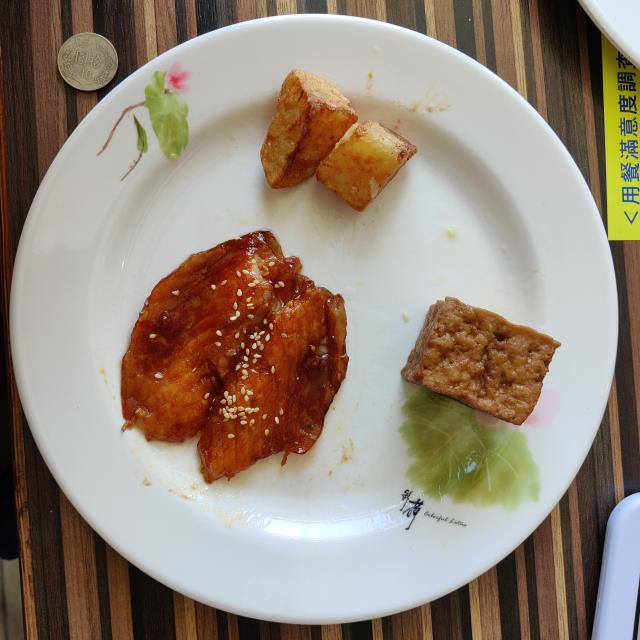Kabayaki sea bream fillet: (121, 231, 348, 482)
coin: (58, 32, 118, 91)
egg tofu: (401, 298, 561, 425)
fried potato: (260, 69, 418, 211)
